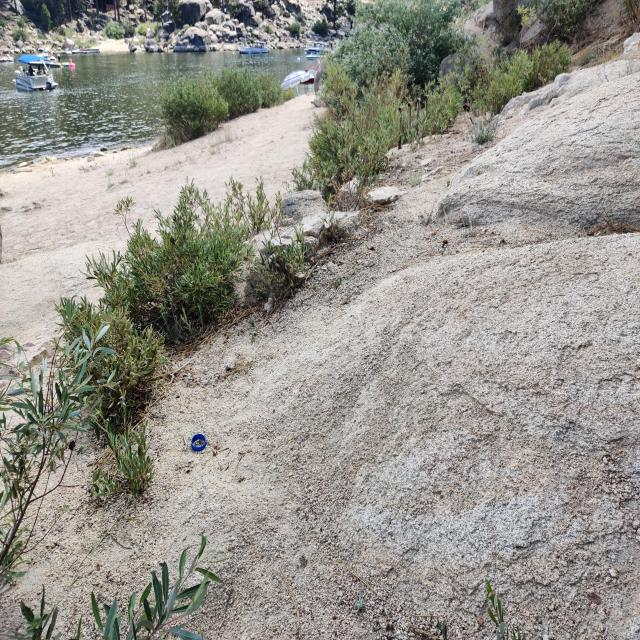litter: (191, 433, 206, 452)
